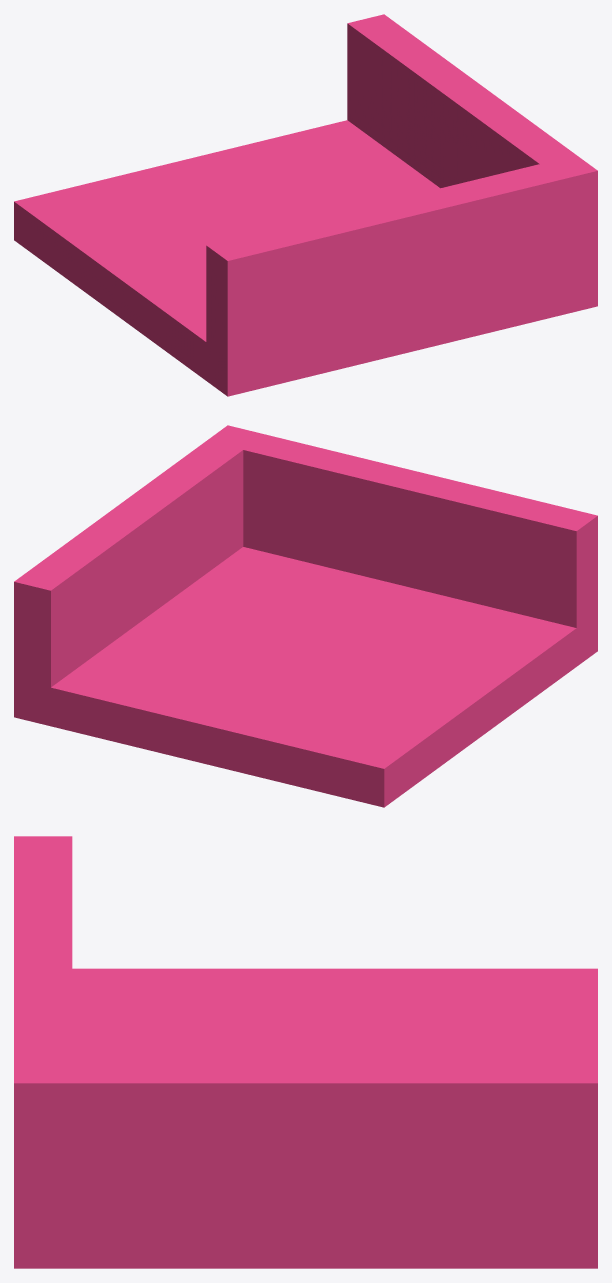
Rendered from PinkRoof_Corner_Small.glb.
The picture shows the model from 3 angles, top to bottom: view 1: azimuth 30°, elevation 25°; view 2: azimuth 150°, elevation 25°; view 3: azimuth 270°, elevation 25°; orthographic projection. The views are drawn at different scales.
Visible parts, largest first — view 1: roof_flat_corner_small_pink; view 2: roof_flat_corner_small_pink; view 3: roof_flat_corner_small_pink.
Boxes of the visible parts, x1=… form: roof_flat_corner_small_pink: x1=14, y1=14, x2=597, y2=396; roof_flat_corner_small_pink: x1=14, y1=425, x2=597, y2=807; roof_flat_corner_small_pink: x1=14, y1=836, x2=597, y2=1268.
Size of what is drawn, in the model's own units: 2 by 0.7 by 2.
1 material, 1 textured.
